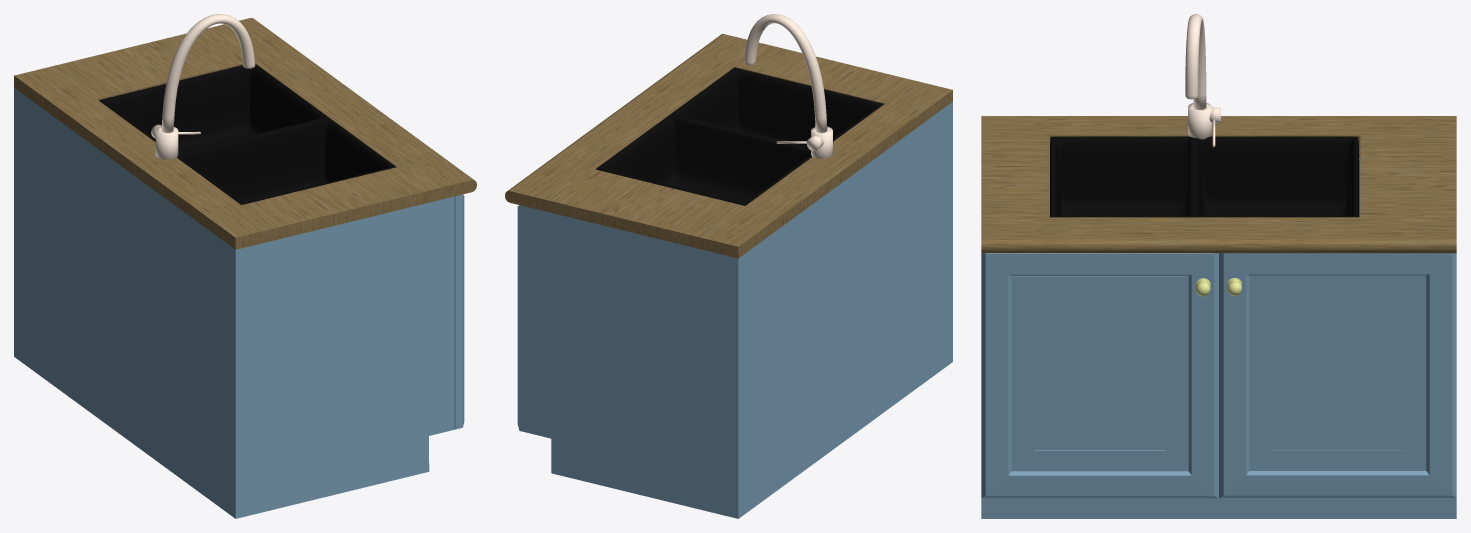
The model's file is Cabinet_Sink.fbx.
3 views of the same model, side by side, from view 1: azimuth 30°, elevation 25°; view 2: azimuth 150°, elevation 25°; view 3: azimuth 270°, elevation 25° (orthographic). The views are drawn at different scales.
Parts seen in each view (by area): view 1: Cabinet.001, Sink, hana, Door_Left.002; view 2: Cabinet.001, Sink, hana, Door_Left.001; view 3: Door_Left.002, Door_Left.001, Cabinet.001, Sink, hana.
Boxes of the visible parts, x1,y1,x2,y2 form: Cabinet.001: [14, 18, 476, 518]; Sink: [99, 64, 395, 204]; hana: [151, 14, 255, 159]; Door_Left.002: [454, 194, 464, 429]; Cabinet.001: [505, 34, 952, 518]; Sink: [596, 67, 883, 205]; hana: [744, 14, 832, 158]; Door_Left.001: [517, 205, 526, 432]; Door_Left.002: [981, 253, 1218, 498]; Door_Left.001: [1219, 253, 1456, 497]; Cabinet.001: [981, 116, 1456, 518]; Sink: [1050, 136, 1359, 217]; hana: [1185, 14, 1220, 147].
Bounding box in the file's own units: 63.71 × 102 × 100.
